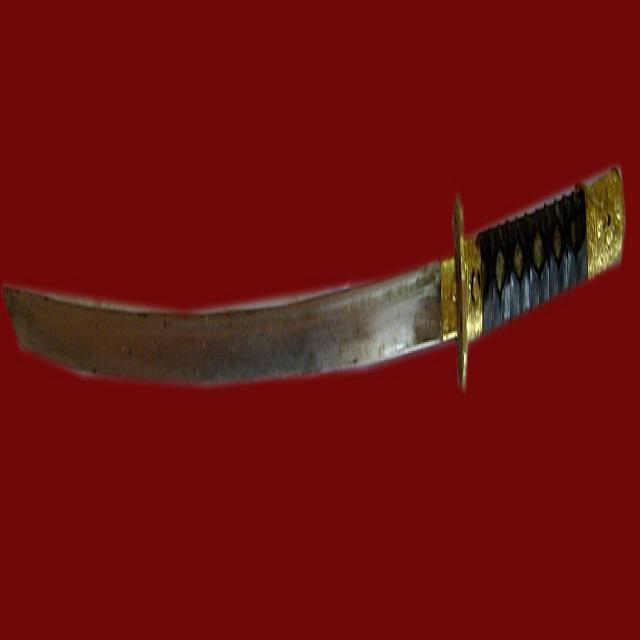long sword: (2, 130, 624, 390)
